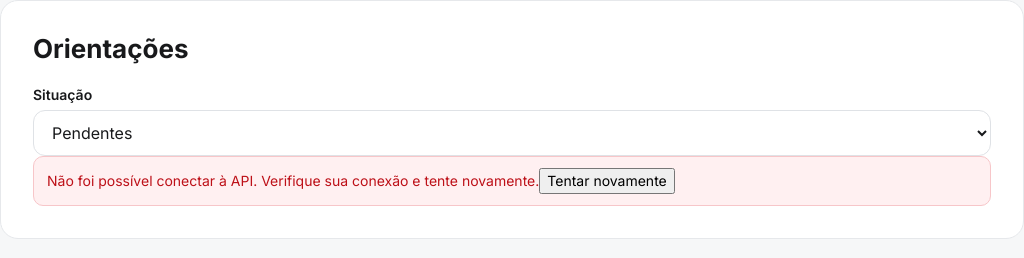
permite repetir consulta após falha temporária
What coordinates should you click on to do the following:
click the button "Tentar novamente"
I would click on:
 (607, 181)
Its box is left=539, top=168, right=675, bottom=194.
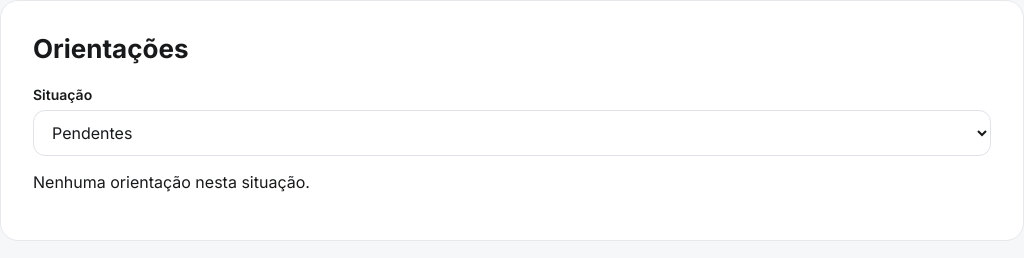
Now the text "Nenhuma orientação nesta situação." is shown, box left=33, top=172, right=310, bottom=192
